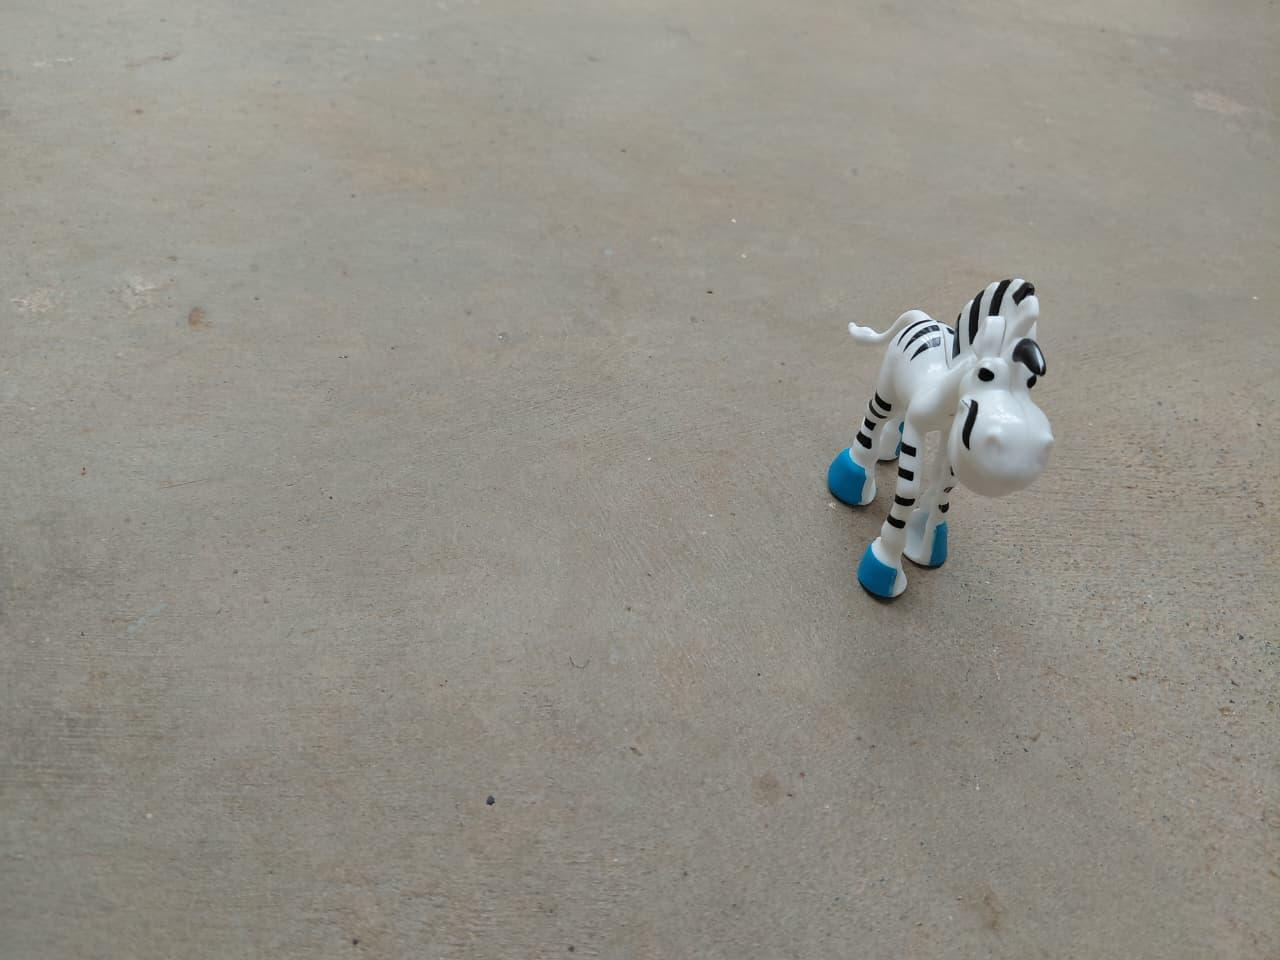zebra: (810, 270, 1062, 620)
